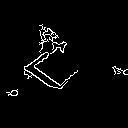cube: (37, 49, 84, 87)
